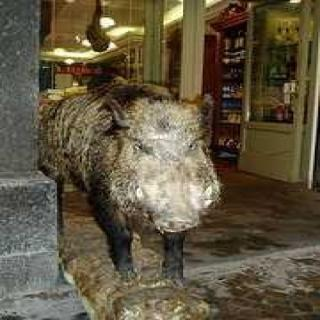Pig: (57, 46, 226, 264)
